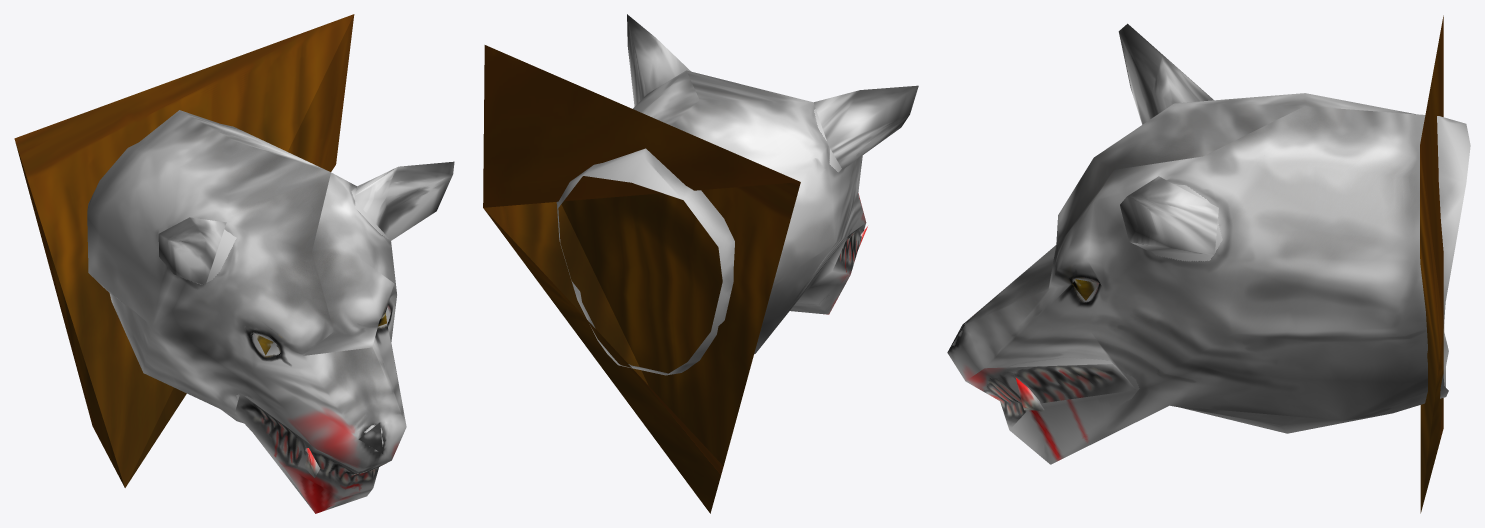
File: Lobo low.fbx
3 renders of one model, left to right at view 1: azimuth 30°, elevation 25°; view 2: azimuth 150°, elevation 25°; view 3: azimuth 270°, elevation 25°, orthographic. The views are drawn at different scales.
Visible parts, largest first — view 1: Lobo Retopologia.002, Cube.002; view 2: Cube.002, Lobo Retopologia.002; view 3: Lobo Retopologia.002, Cube.002.
Part boxes in pixels (x1=…): Lobo Retopologia.002: x1=87, y1=110, x2=454, y2=513; Cube.002: x1=14, y1=14, x2=354, y2=487; Cube.002: x1=483, y1=45, x2=800, y2=513; Lobo Retopologia.002: x1=556, y1=14, x2=918, y2=375; Lobo Retopologia.002: x1=947, y1=23, x2=1470, y2=464; Cube.002: x1=1420, y1=15, x2=1443, y2=513.
Size of the model in its own units: 226 by 274 by 259.
